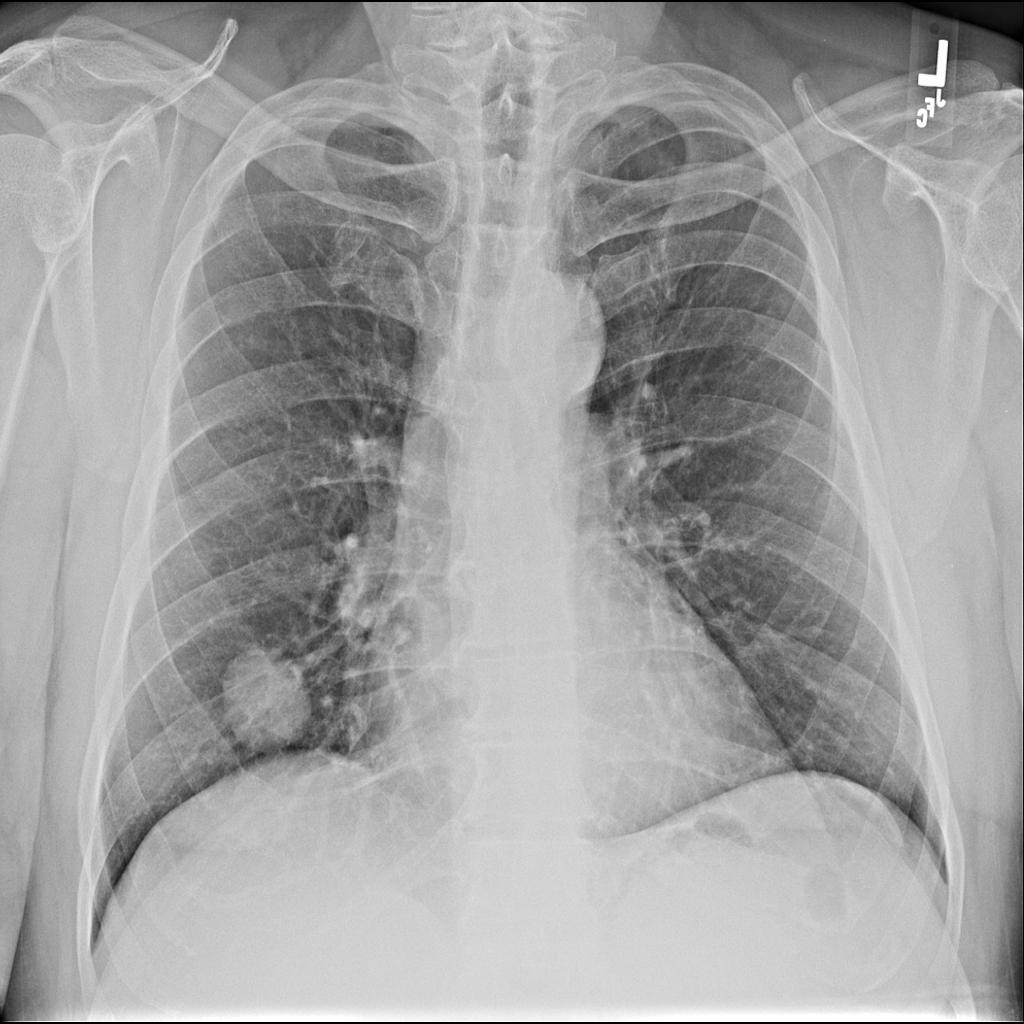Nodule: (215, 644, 317, 752)
